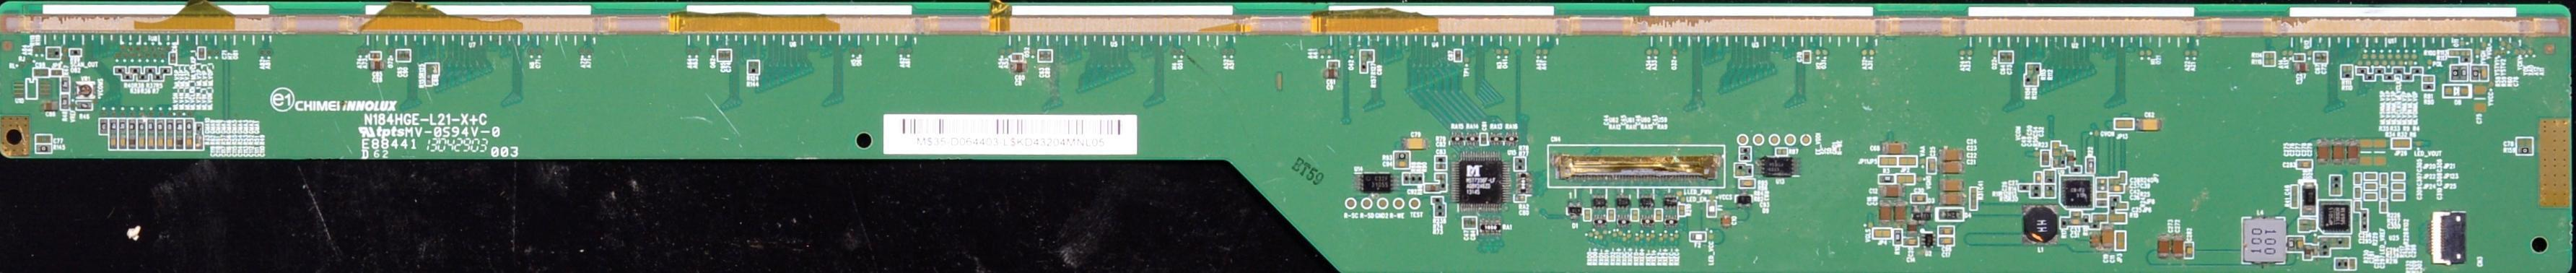Capacitor: (2331, 137, 2346, 166), (2346, 137, 2359, 167), (1402, 137, 1430, 150), (1939, 162, 1968, 173), (1941, 149, 1965, 161), (1939, 193, 1965, 206), (2101, 225, 2115, 250), (1879, 186, 1905, 197), (1877, 201, 1891, 224), (2157, 234, 2170, 257), (2316, 139, 2328, 165), (2171, 233, 2183, 259), (1009, 61, 1030, 74), (2137, 118, 2161, 129), (1893, 201, 1905, 223), (1939, 181, 1965, 191), (1881, 142, 1906, 152), (1321, 67, 1341, 79), (2184, 242, 2194, 260), (368, 60, 387, 71), (43, 99, 58, 110), (709, 47, 716, 70), (32, 66, 50, 77), (2090, 231, 2099, 251), (1721, 214, 1732, 228), (1393, 160, 1410, 169), (1907, 220, 1917, 236), (30, 58, 46, 68), (1928, 158, 1937, 173), (2066, 149, 2075, 165), (2040, 150, 2049, 165), (2297, 160, 2313, 168), (1938, 227, 1955, 235), (1903, 238, 1918, 246), (2294, 62, 2310, 71), (37, 135, 51, 142), (176, 134, 183, 149), (109, 134, 117, 149), (195, 135, 204, 150), (1425, 184, 1438, 192), (1912, 194, 1926, 203), (1454, 48, 1462, 62), (2480, 66, 2489, 79), (1480, 132, 1488, 145), (185, 134, 193, 149), (157, 135, 165, 149), (119, 136, 127, 149), (1741, 179, 1755, 187), (2108, 186, 2123, 192), (1939, 237, 1955, 244), (2297, 238, 2305, 251), (1010, 53, 1023, 61), (166, 134, 173, 149), (2517, 138, 2532, 145), (139, 136, 146, 149), (1435, 173, 1446, 181), (129, 135, 136, 149), (147, 136, 155, 149), (2070, 218, 2081, 225), (1039, 51, 1044, 62), (2293, 53, 2305, 60), (1804, 51, 1810, 62), (2097, 185, 2107, 192), (2035, 172, 2041, 182), (1516, 195, 1526, 201), (1464, 218, 1470, 228), (725, 51, 731, 61), (404, 51, 410, 61), (1045, 51, 1051, 61), (2314, 52, 2321, 62), (432, 64, 439, 74), (398, 49, 403, 61), (370, 53, 381, 58), (2007, 52, 2012, 64), (2097, 177, 2107, 184), (1436, 165, 1446, 170), (2070, 212, 2080, 217), (1470, 217, 1476, 227), (198, 48, 204, 58), (2321, 53, 2326, 63), (171, 53, 176, 63), (2000, 53, 2005, 61), (719, 50, 722, 61)
Resistor: (75, 100, 92, 111), (148, 73, 165, 82), (61, 92, 71, 109), (137, 118, 146, 134), (109, 119, 118, 134), (36, 144, 52, 154), (1393, 149, 1410, 159), (112, 64, 128, 74), (159, 63, 172, 74), (2518, 147, 2533, 155), (143, 64, 157, 74), (121, 74, 134, 82), (61, 78, 69, 92), (175, 118, 183, 134), (17, 54, 32, 63), (129, 64, 141, 74), (2450, 66, 2459, 79), (137, 74, 149, 82), (186, 118, 193, 134), (147, 119, 155, 134), (120, 119, 126, 134), (157, 118, 163, 133), (166, 118, 173, 134), (100, 120, 108, 134), (2460, 66, 2466, 79), (2472, 66, 2479, 79), (129, 120, 136, 133), (2424, 76, 2435, 82), (51, 69, 61, 76), (2026, 76, 2032, 86), (2422, 83, 2435, 89), (70, 49, 81, 56), (6, 63, 20, 68), (2027, 65, 2034, 75), (2394, 67, 2403, 74), (2374, 67, 2383, 74), (2341, 72, 2353, 77), (2401, 74, 2412, 79), (196, 123, 202, 134), (54, 48, 60, 58), (2341, 65, 2352, 71), (2035, 64, 2039, 75), (2411, 68, 2421, 73), (2357, 68, 2366, 74), (2365, 74, 2374, 79), (2384, 75, 2393, 81), (2033, 75, 2038, 86), (48, 48, 53, 57), (748, 61, 759, 66), (748, 68, 759, 73)
